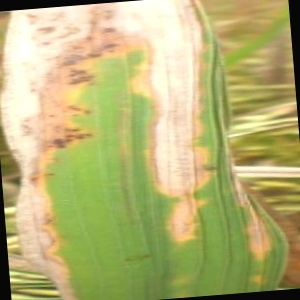Leaf_Blast: (3, 4, 220, 299)
